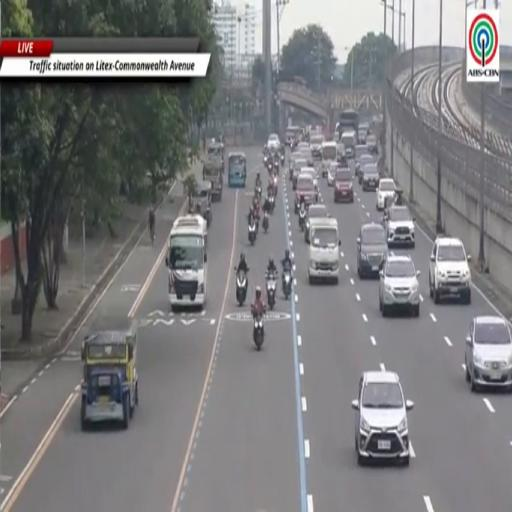bus: (166, 222, 207, 309), (337, 110, 359, 139)
car: (352, 372, 413, 465), (465, 316, 511, 391), (429, 236, 471, 303), (379, 253, 420, 316), (357, 222, 387, 278), (384, 205, 414, 248), (304, 204, 329, 243), (295, 173, 317, 214), (355, 153, 377, 184), (334, 168, 354, 202), (376, 179, 396, 211), (321, 141, 336, 178), (292, 155, 306, 189), (362, 164, 380, 190), (300, 167, 318, 188), (289, 152, 301, 180), (310, 135, 324, 158), (327, 163, 339, 186), (300, 149, 314, 166), (355, 144, 368, 162), (366, 135, 378, 154), (267, 134, 280, 150), (358, 126, 367, 143), (296, 141, 309, 152)
jeepney: (81, 317, 138, 430), (189, 181, 212, 227), (203, 155, 223, 201), (228, 153, 247, 187), (206, 140, 224, 165)
motorcycle: (236, 270, 247, 307), (253, 315, 264, 350), (267, 275, 276, 310), (282, 269, 291, 299), (248, 222, 256, 245), (262, 212, 269, 233), (299, 210, 306, 231), (272, 175, 278, 196), (269, 196, 275, 214), (255, 184, 261, 198), (267, 160, 273, 174), (289, 166, 294, 182), (274, 158, 279, 174), (280, 154, 284, 166), (264, 154, 267, 165)
truck: (309, 218, 340, 283)
